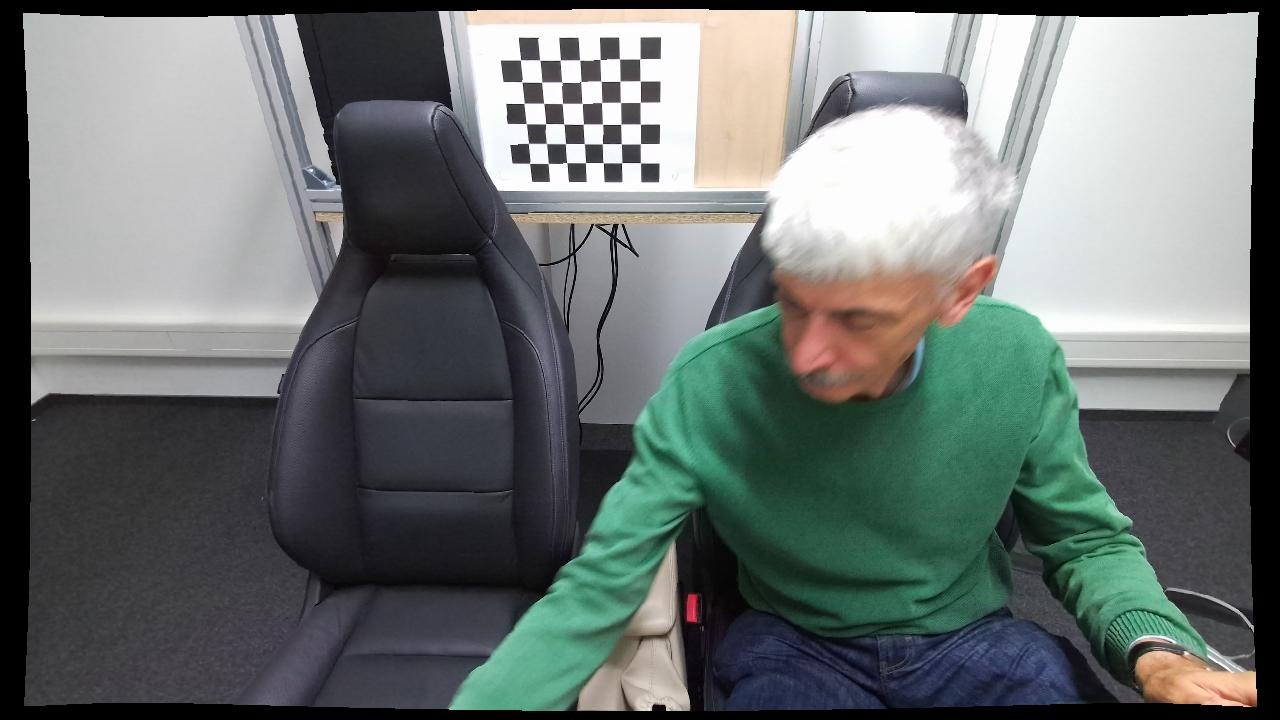Distracted: (444, 107, 1216, 710)
